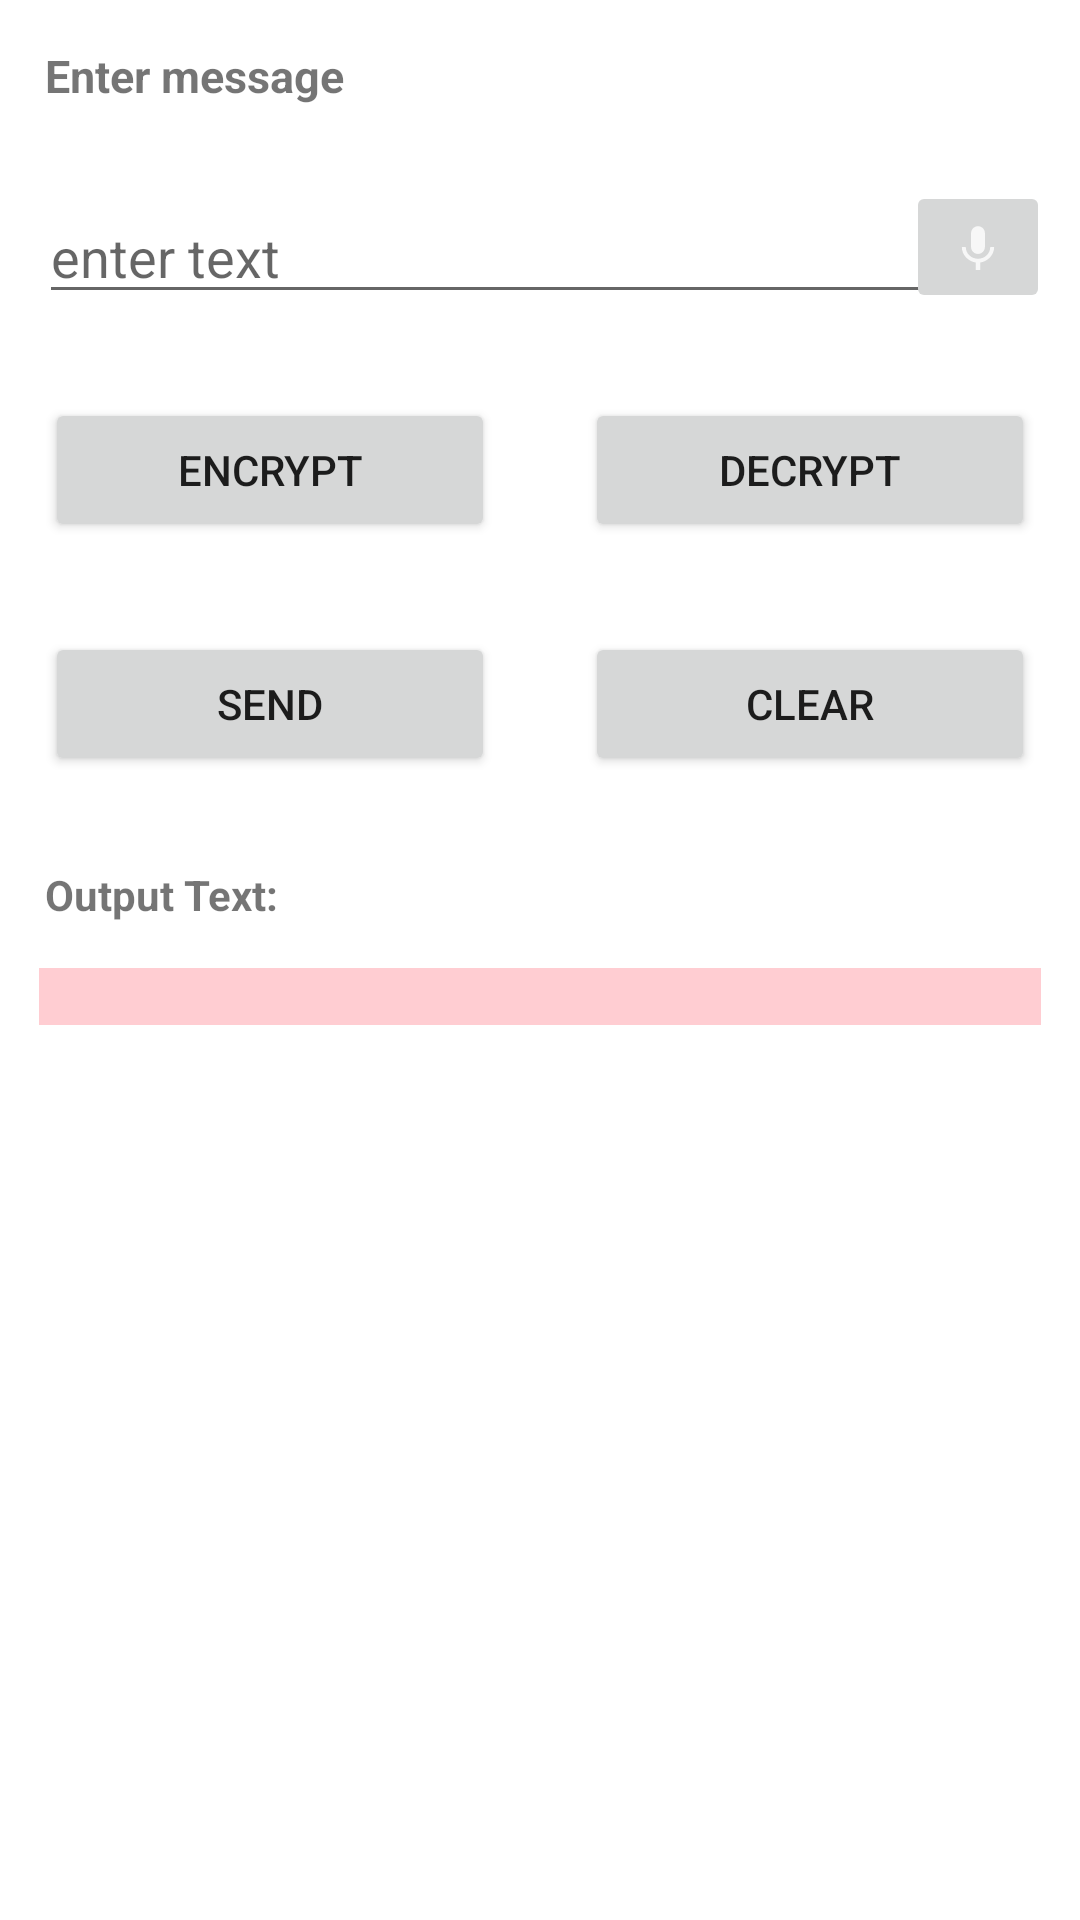

Named icons in this screenshot (1080px x 1920px) and their centers, (x=x, y=y):
pass voice: (x=972, y=247)
